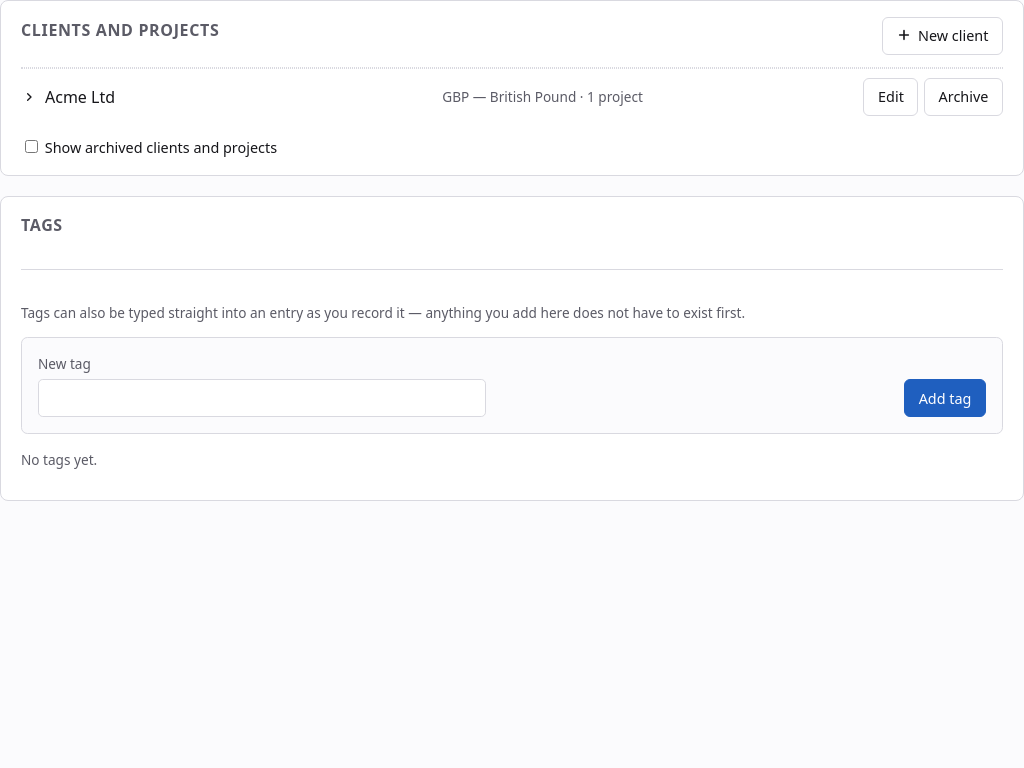
Test case: projects grouped under their client (item 51) › opens and closes a group, showing its projects only while it is open
The image size is (1024, 768).
Click the button with class "taxonomy-group-toggle" at (80,97), box [21,77,430,117]
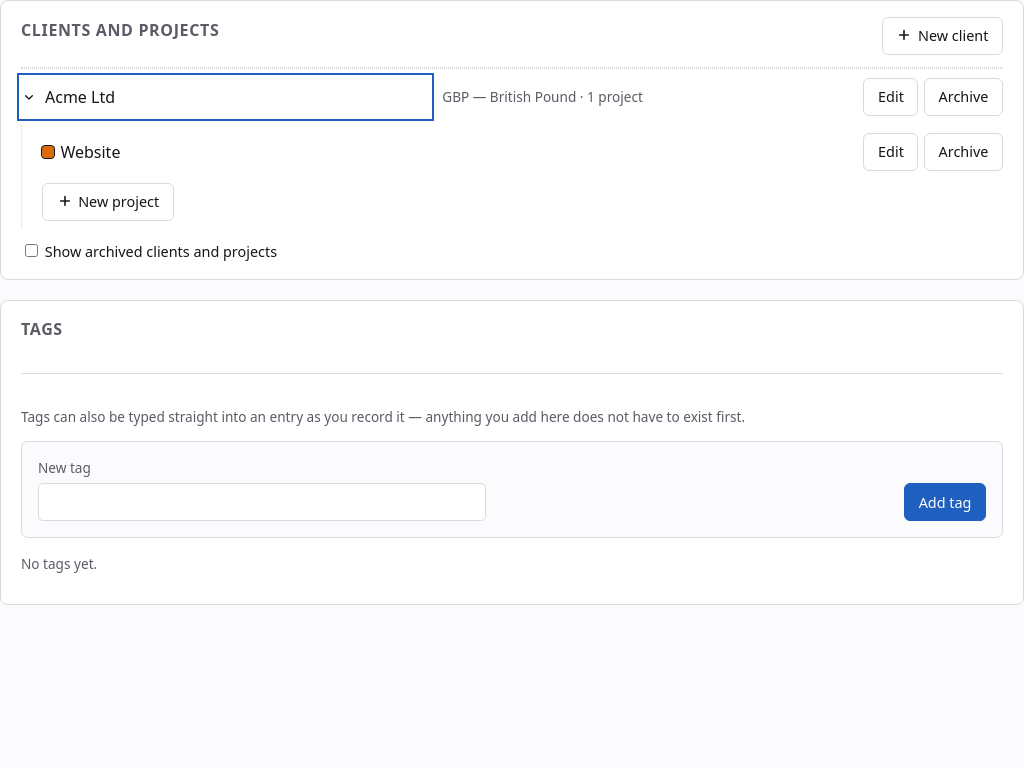
Expected: the list item "Website" is shown, [60,141,120,163]
Note: And closes again, so the toggle is a toggle rather than a one-way reveal.
Click the button with class "taxonomy-group-toggle" at (80,97), box [21,77,430,117]
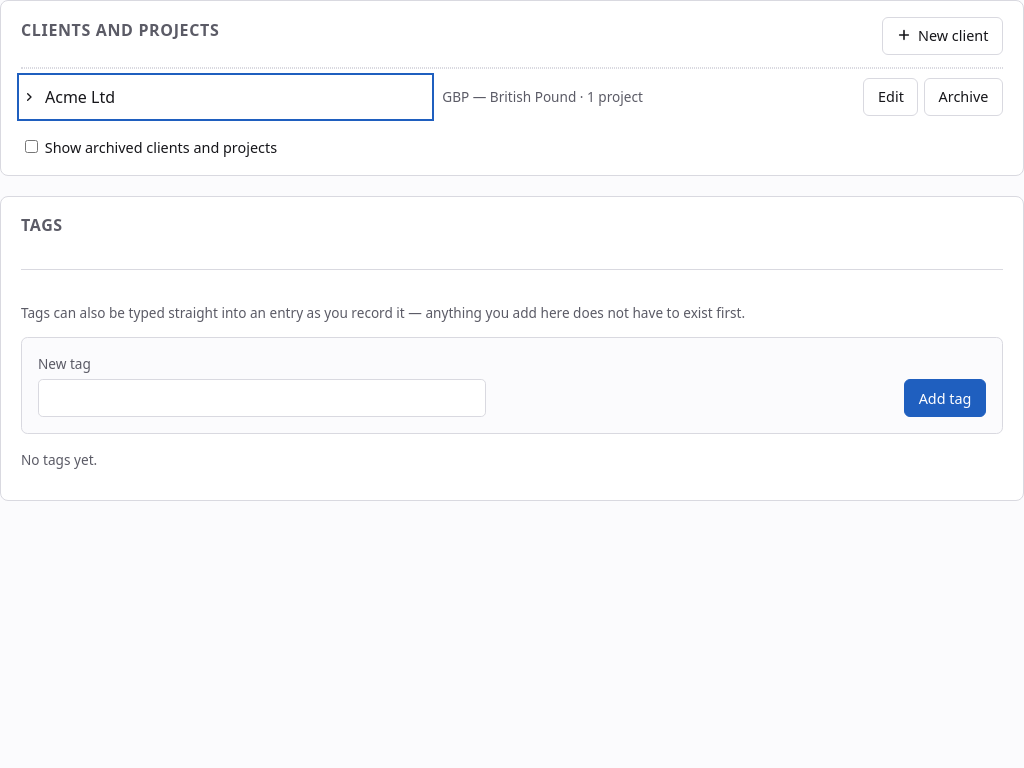
Expected: the text "Website" is gone
